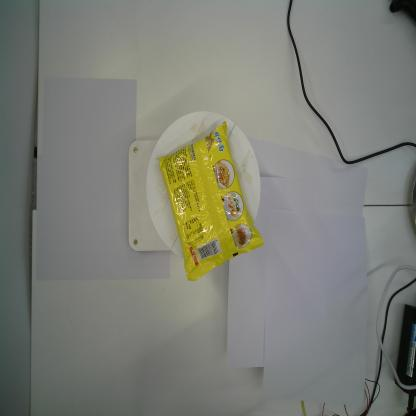Instant Noodles: (155, 120, 265, 282)
